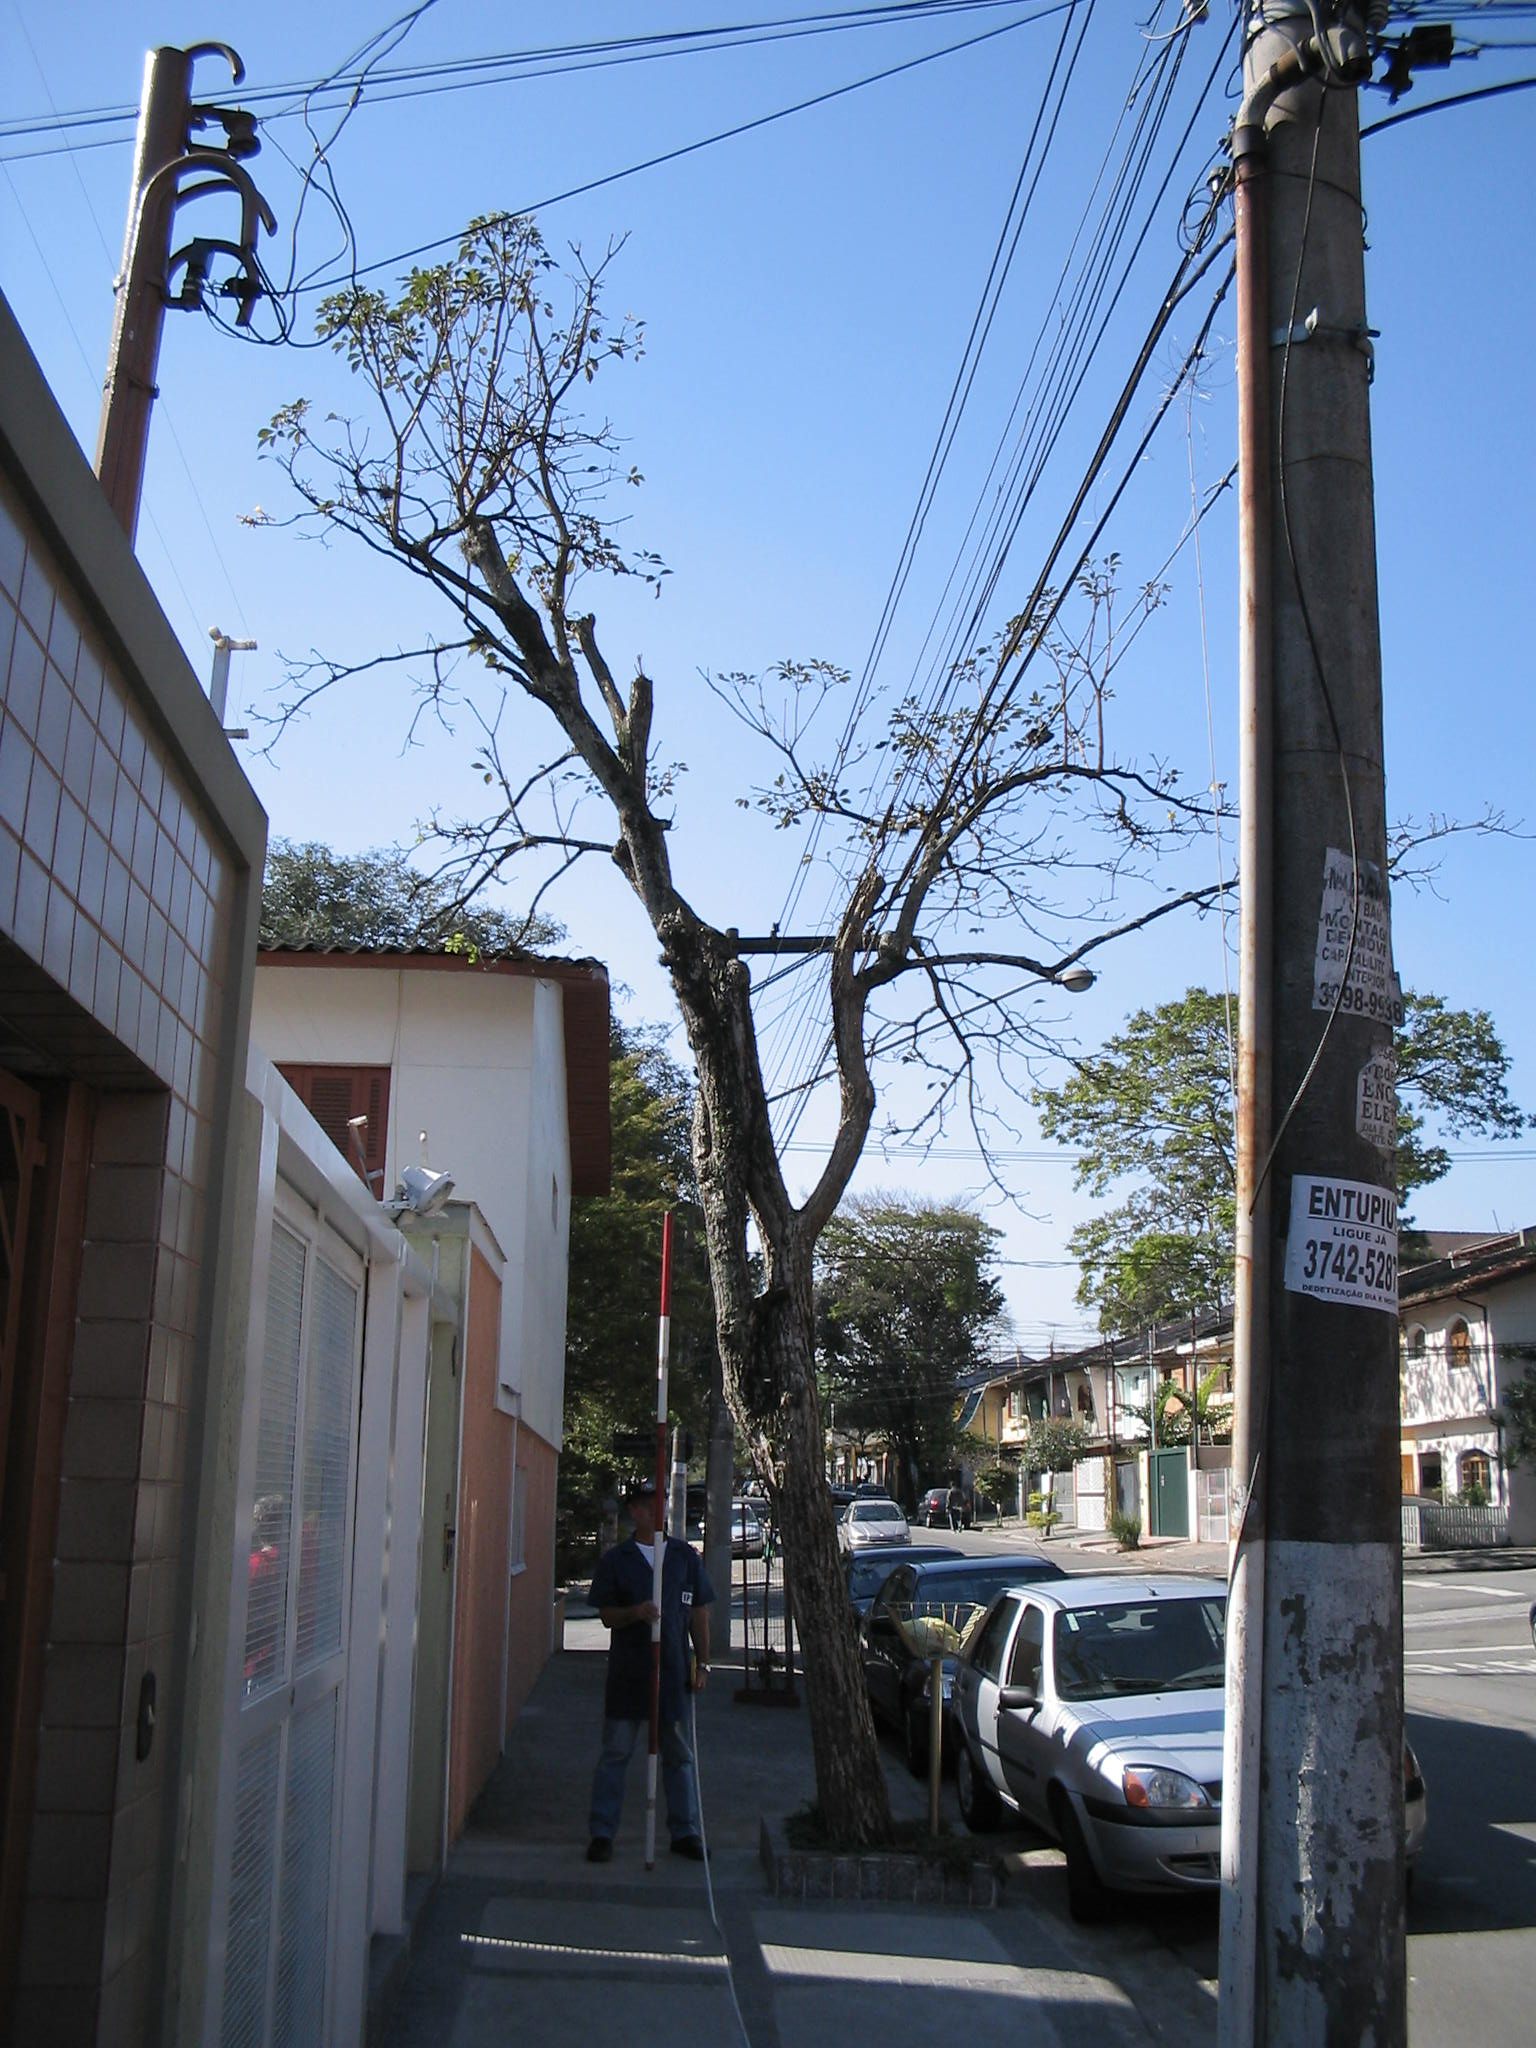stem: (691, 1324, 952, 1845)
stick: (603, 1205, 707, 1872)
tree: (232, 200, 1225, 1846)
